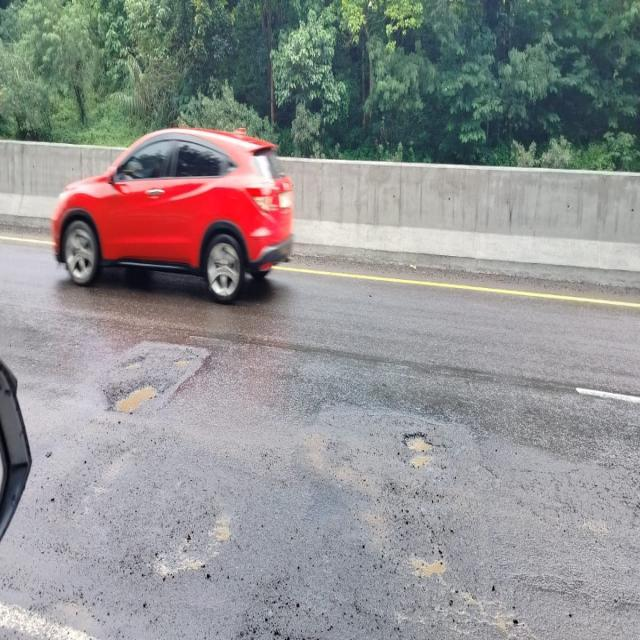Buraco: (100, 374, 179, 416), (398, 430, 454, 472), (115, 354, 148, 372), (169, 356, 197, 370)
